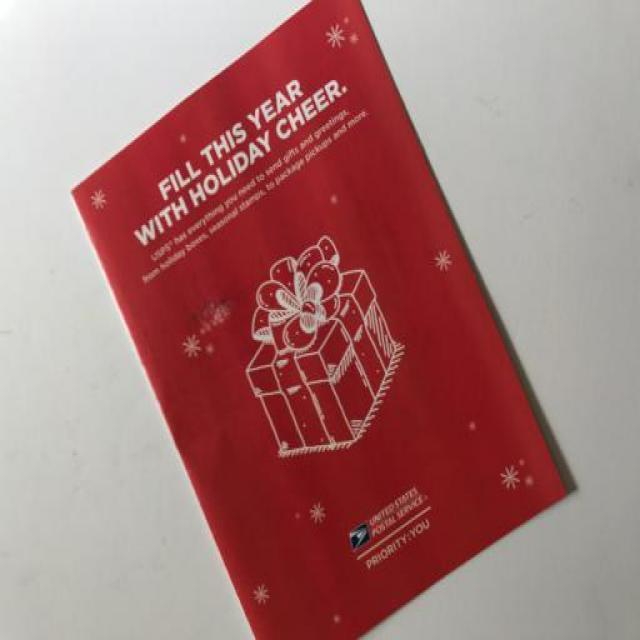paper: (56, 1, 567, 634)
